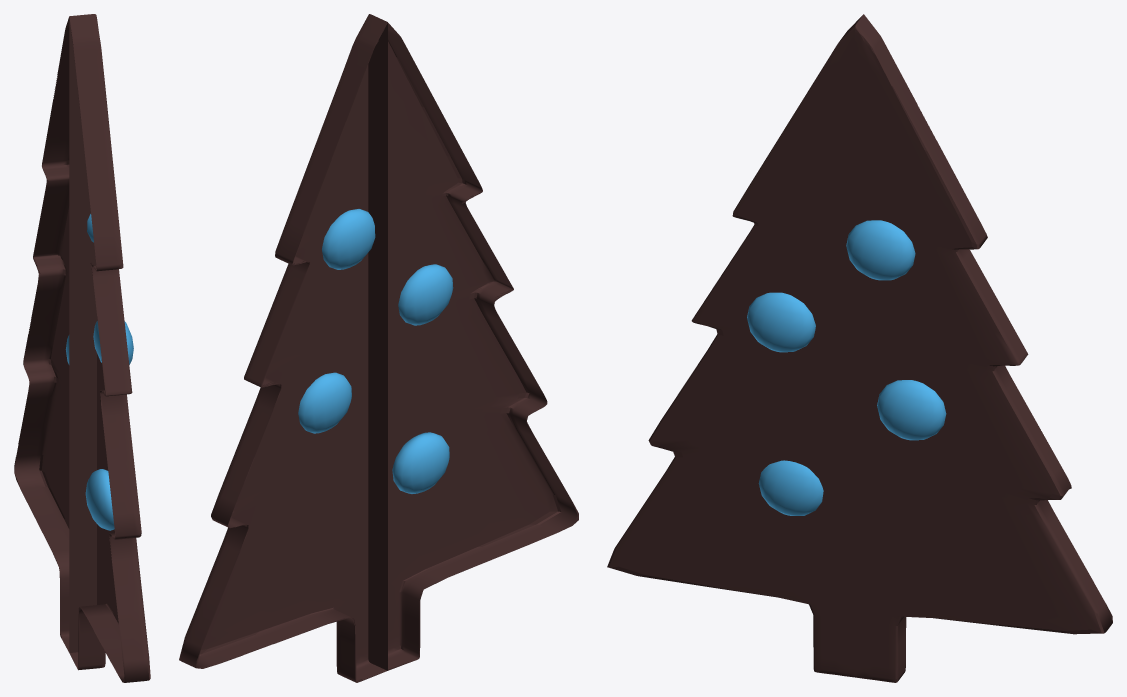
File: Trees_fixed.fbx
The picture shows the model from 3 angles, left to right: view 1: azimuth 30°, elevation 25°; view 2: azimuth 150°, elevation 25°; view 3: azimuth 270°, elevation 25°; orthographic projection. The views are drawn at different scales.
Parts seen in each view (by area): view 1: Cube.046, Sphere.087, Sphere.089; view 2: Cube.046, Sphere.087, Sphere.089, Sphere.090, Sphere.088; view 3: Cube.046, Sphere.088, Sphere.090, Sphere.089, Sphere.087.
Boxes of the visible parts, <box> form: Cube.046: <box>14,14,150,682</box>; Sphere.087: <box>85,469,114,530</box>; Sphere.089: <box>93,320,133,364</box>; Cube.046: <box>179,14,578,682</box>; Sphere.087: <box>392,432,449,493</box>; Sphere.089: <box>398,264,453,325</box>; Sphere.090: <box>322,209,375,269</box>; Sphere.088: <box>298,372,351,433</box>; Cube.046: <box>607,14,1112,682</box>; Sphere.088: <box>877,380,946,440</box>; Sphere.090: <box>846,220,915,280</box>; Sphere.089: <box>747,292,815,352</box>; Sphere.087: <box>758,460,823,515</box>.
Size of the model in its own units: 796 by 3136 by 2200.
